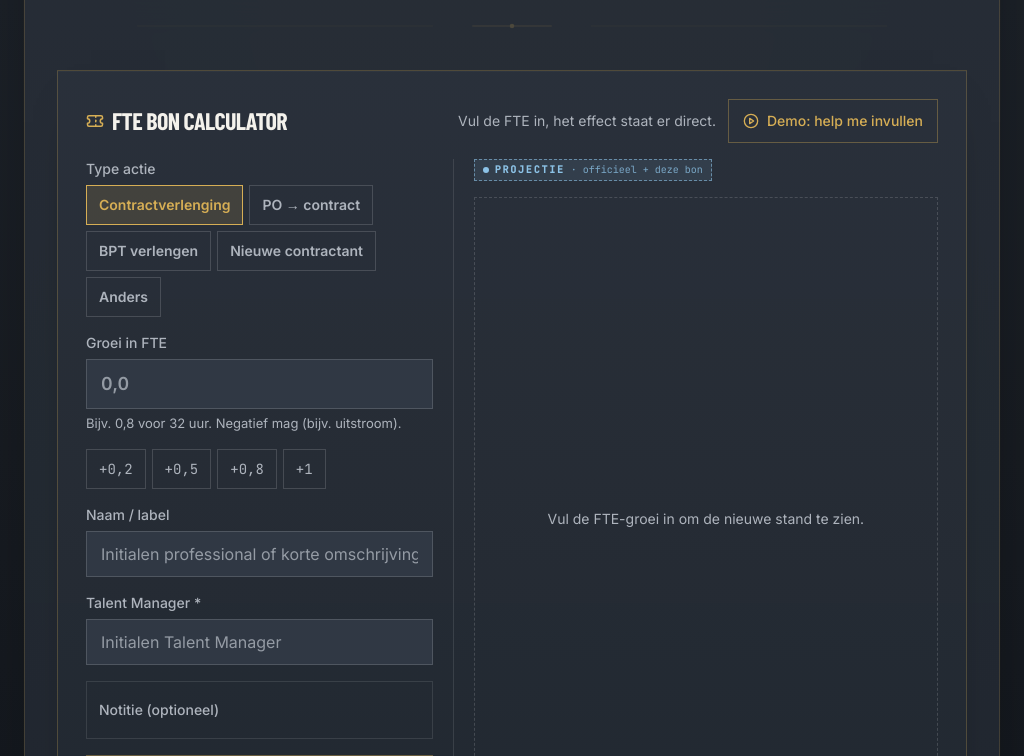
Test case: NetFtePage › FTE Bon Calculator: typing an FTE immediately shows the projected Net FTE, rank and next target
(page scrolled)
In the field labelled "Groei in FTE": (259, 384) [86,360,433,410], type "1,4"
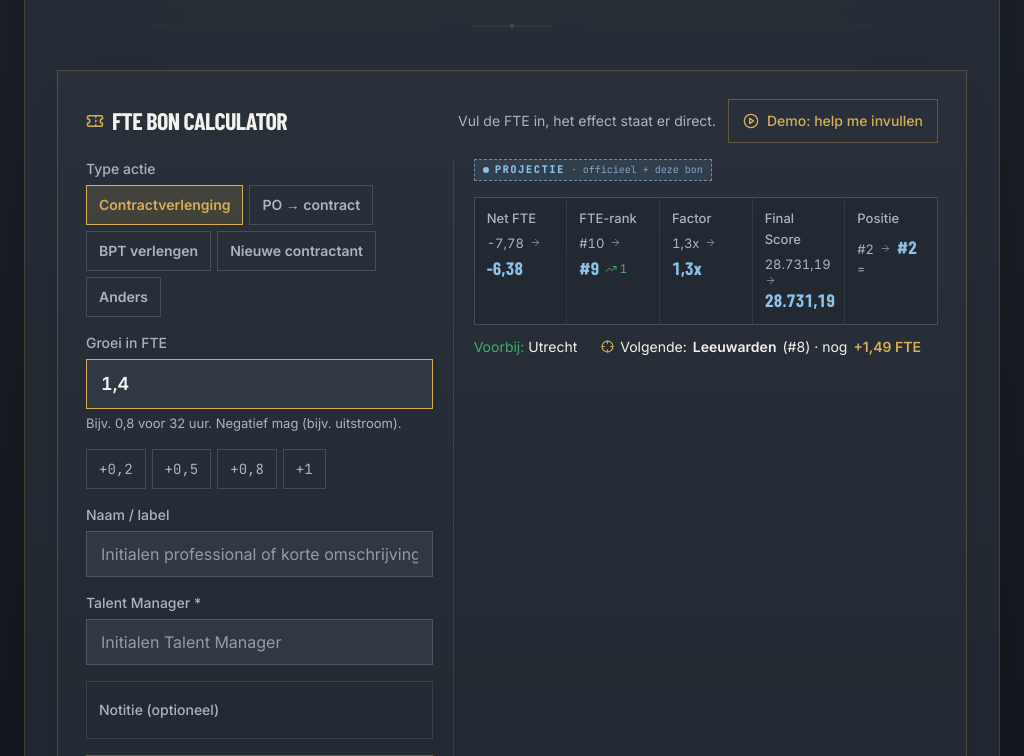
Check: the text "-6,38" is shown, box [487,254,523,282]
Check: the text "#9" is shown, box [579,254,599,282]
Check: the text "Volgende: Leeuwarden (#8) · nog +1,49 FTE" is shown, box [601,337,921,357]
